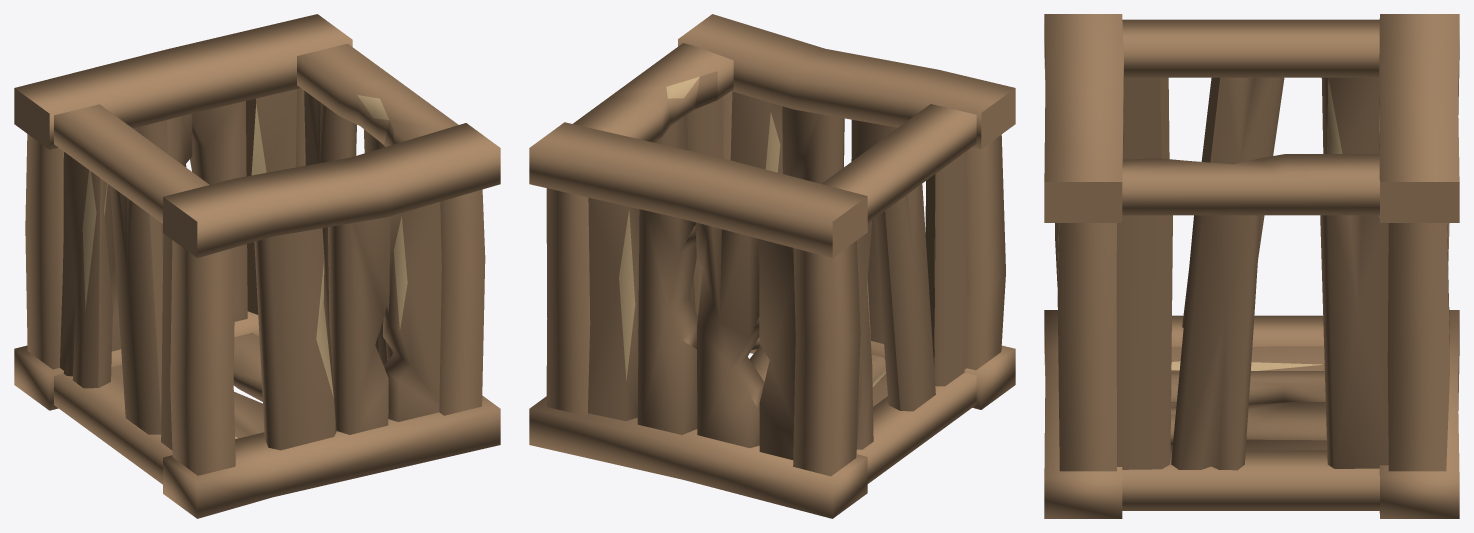
File: rpgpp_av_crate_05.gltf
3 renders of one model, left to right at view 1: azimuth 30°, elevation 25°; view 2: azimuth 150°, elevation 25°; view 3: azimuth 270°, elevation 25°, orthographic. The views are drawn at different scales.
Parts seen in each view (by area): view 1: rpgpp_av_crate_05; view 2: rpgpp_av_crate_05; view 3: rpgpp_av_crate_05.
Part boxes in pixels (bbox=[...]): rpgpp_av_crate_05: bbox=[14, 14, 500, 518]; rpgpp_av_crate_05: bbox=[529, 14, 1015, 518]; rpgpp_av_crate_05: bbox=[1044, 14, 1459, 518].
Bounding box in the file's own units: 0.00923 × 0.0087 × 0.00965.
Materials: 1 (1 with a texture image).
